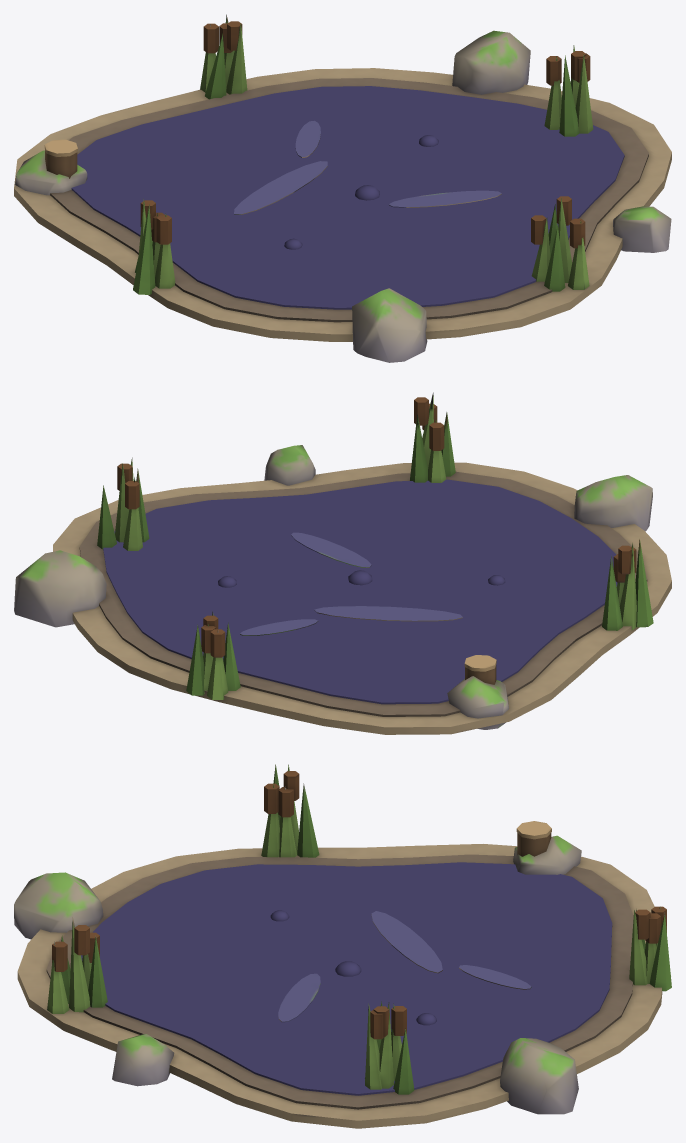
Rendered from dark_lake.glb.
3 renders of one model, top to bottom at view 1: azimuth 30°, elevation 25°; view 2: azimuth 150°, elevation 25°; view 3: azimuth 270°, elevation 25°, orthographic. The views are drawn at different scales.
Visible parts, largest first — view 1: dark_lake; view 2: dark_lake; view 3: dark_lake.
Part boxes in pixels (<box>): dark_lake: <box>14,14,671,362</box>; dark_lake: <box>14,392,671,734</box>; dark_lake: <box>14,764,671,1128</box>.
Bounding box in the file's own units: 1.35 × 0.2279 × 1.34.
Materials: 2 (1 with a texture image).
